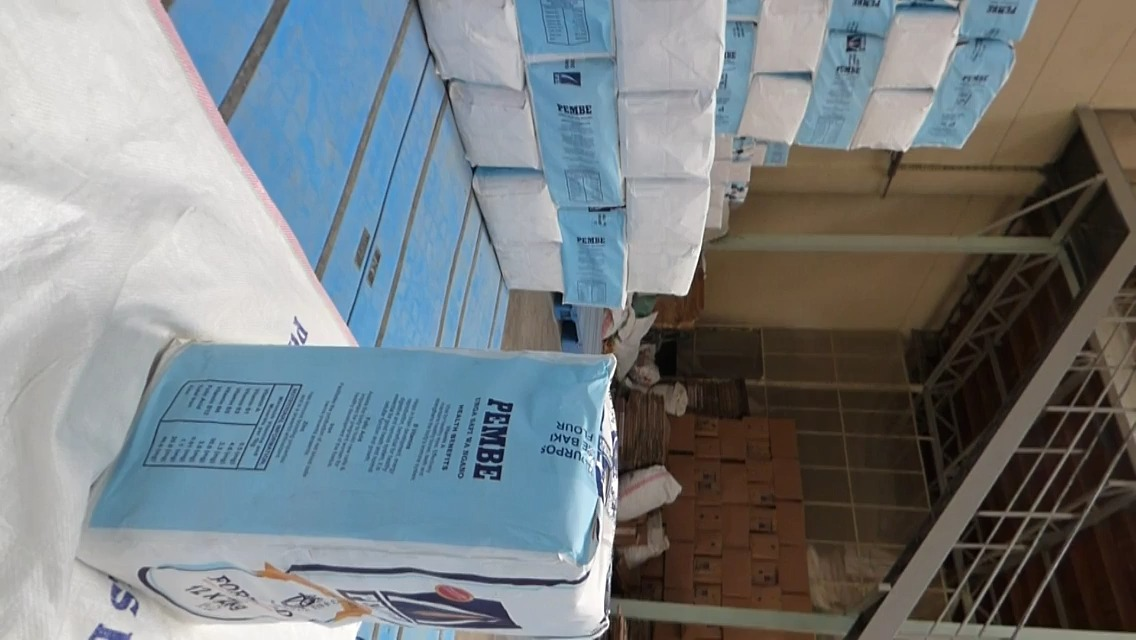wheat_flour_blue_label: (80, 343, 613, 640)
